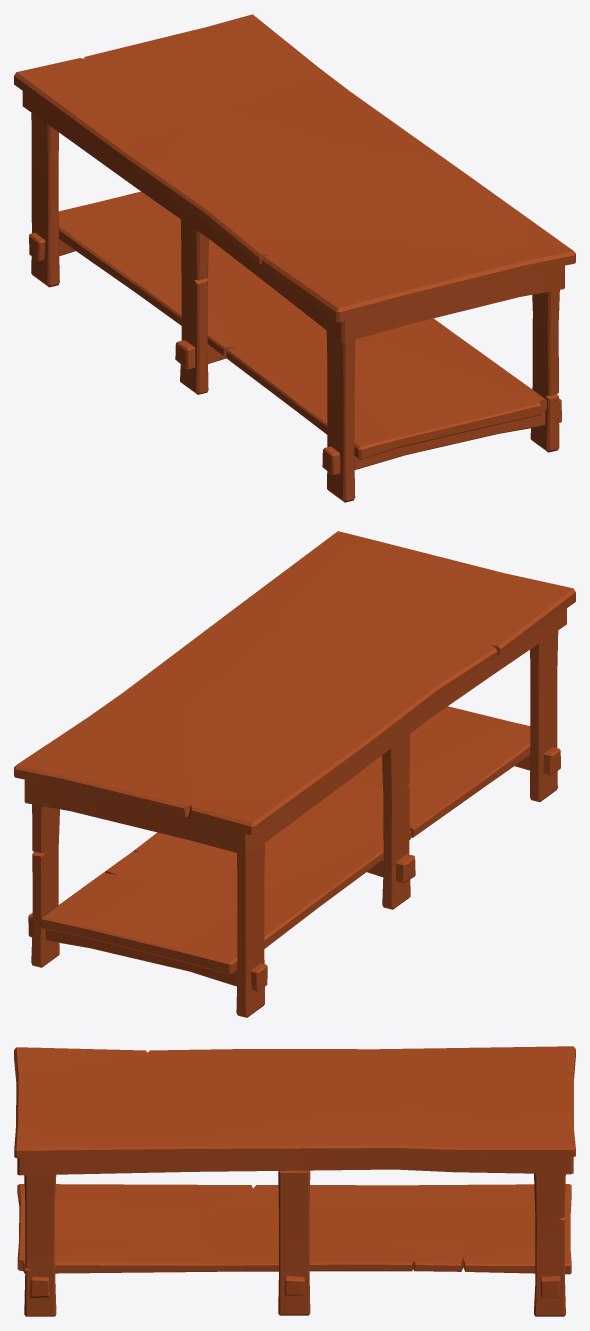
Rendered from Model_Table.FBX.
The picture shows the model from 3 angles, top to bottom: view 1: azimuth 30°, elevation 25°; view 2: azimuth 150°, elevation 25°; view 3: azimuth 270°, elevation 25°; orthographic projection. The views are drawn at different scales.
Visible parts, largest first — view 1: Table_Stylised; view 2: Table_Stylised; view 3: Table_Stylised.
Boxes of the visible parts, x1,y1,x2,y2 form: Table_Stylised: (14, 14, 575, 502); Table_Stylised: (14, 531, 575, 1017); Table_Stylised: (14, 1046, 575, 1316).
Size of the model in its own units: 150 by 120 by 350.
